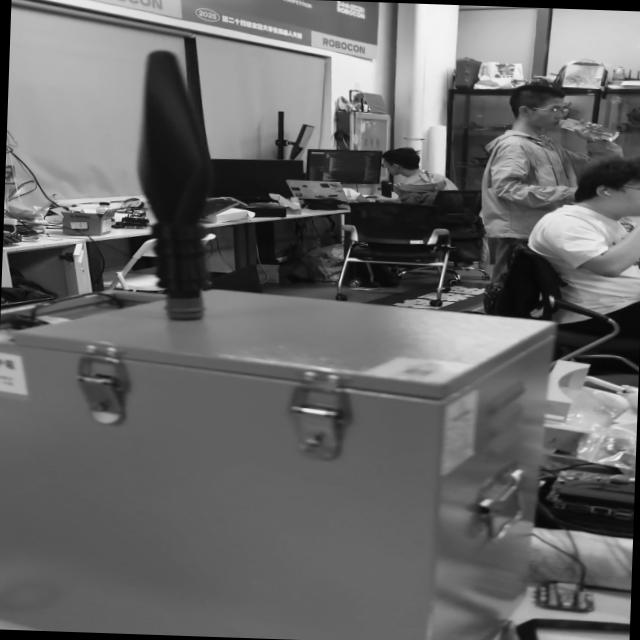base: (162, 295, 206, 322)
